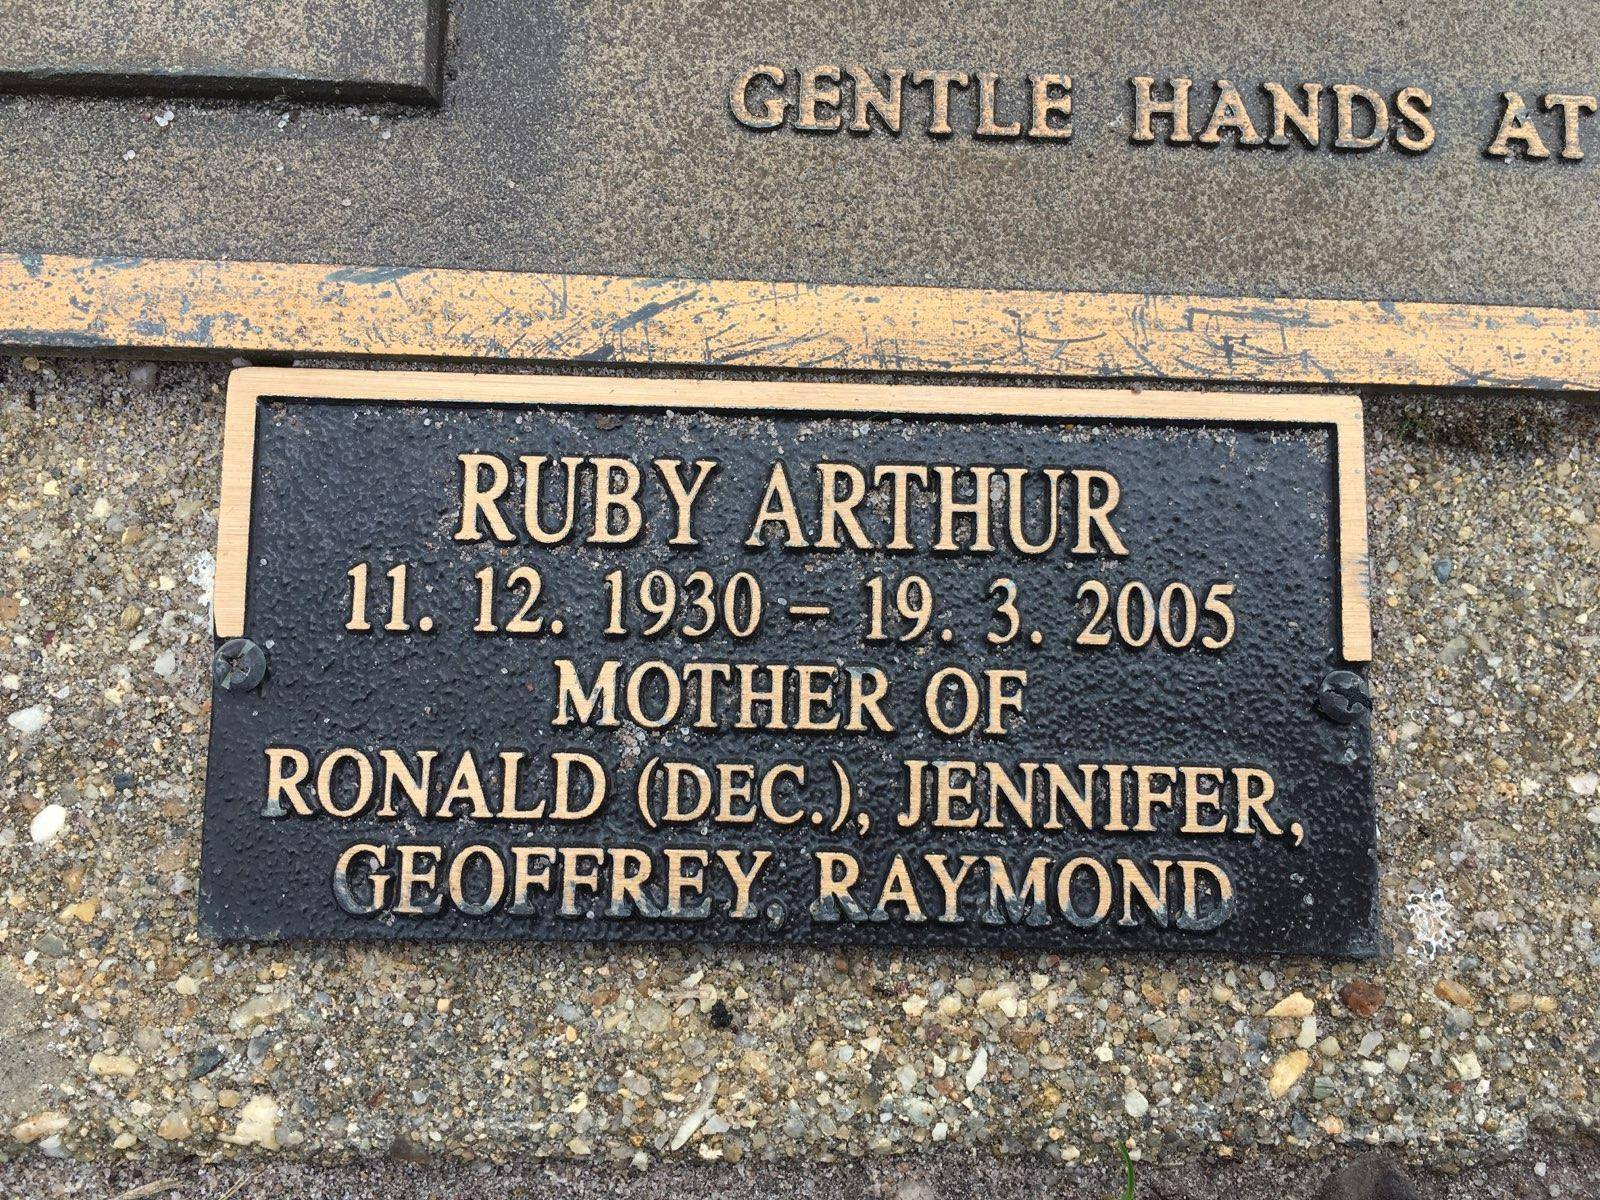flat: (178, 320, 1425, 996)
